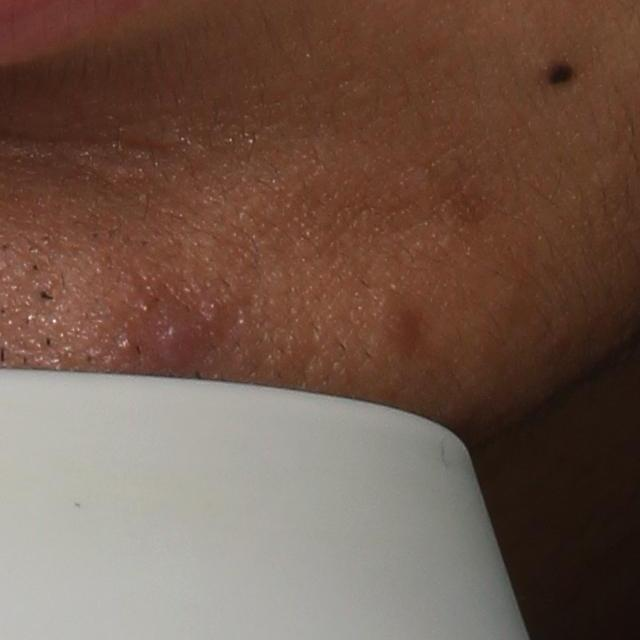nevus: (538, 51, 575, 91)
papule: (155, 323, 198, 364)
